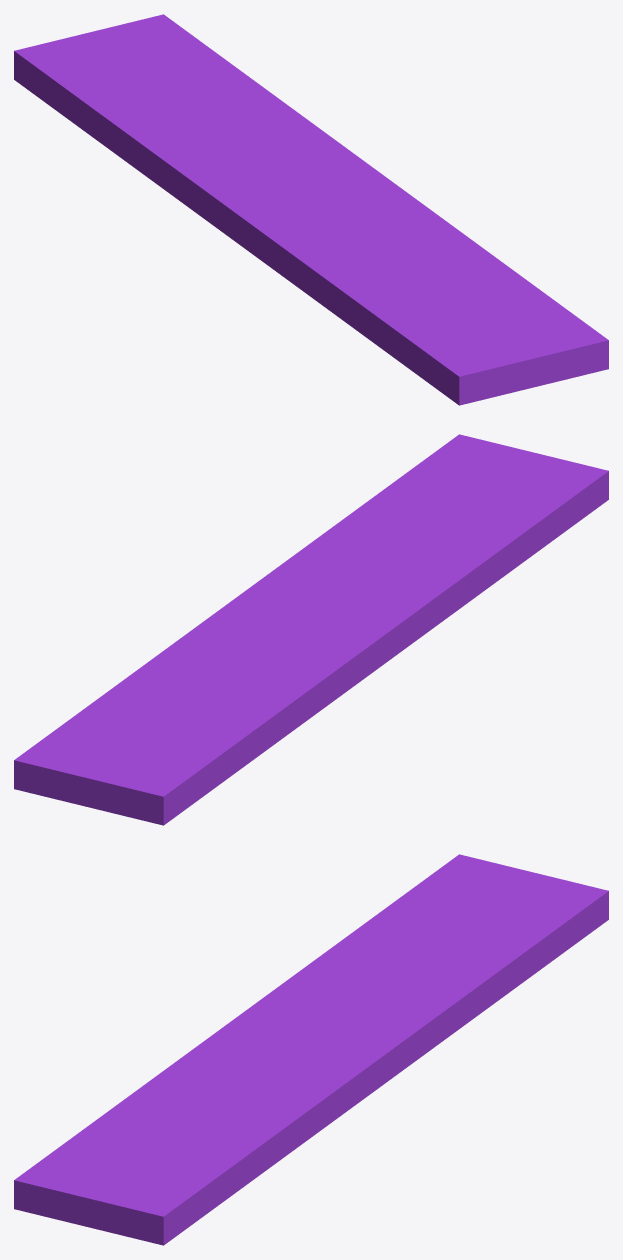
Rendered from StairsStep_133_chunks.fbx.
The picture shows the model from 3 angles, top to bottom: view 1: azimuth 30°, elevation 25°; view 2: azimuth 150°, elevation 25°; view 3: azimuth 330°, elevation 25°; orthographic projection.
Visible parts, largest first — view 1: StairsStep_133_2, StairsStep_133_0, StairsStep_133_1, StairsStep_133_3; view 2: StairsStep_133_2, StairsStep_133_0, StairsStep_133_1, StairsStep_133_3; view 3: StairsStep_133_2, StairsStep_133_1, StairsStep_133_0, StairsStep_133_3.
Boxes of the visible parts, x1=… form: StairsStep_133_2: x1=252, y1=207, x2=608, y2=405; StairsStep_133_0: x1=14, y1=30, x2=304, y2=253; StairsStep_133_1: x1=99, y1=14, x2=392, y2=185; StairsStep_133_3: x1=300, y1=182, x2=446, y2=221; StairsStep_133_2: x1=298, y1=434, x2=608, y2=650; StairsStep_133_0: x1=78, y1=614, x2=409, y2=825; StairsStep_133_1: x1=14, y1=592, x2=293, y2=807; StairsStep_133_3: x1=244, y1=552, x2=340, y2=623; StairsStep_133_2: x1=14, y1=1034, x2=357, y2=1245; StairsStep_133_1: x1=329, y1=875, x2=608, y2=1103; StairsStep_133_0: x1=214, y1=854, x2=543, y2=1036; StairsStep_133_3: x1=282, y1=1028, x2=378, y2=1098.
Bounding box in the file's own units: 157 × 28.98 × 810.
